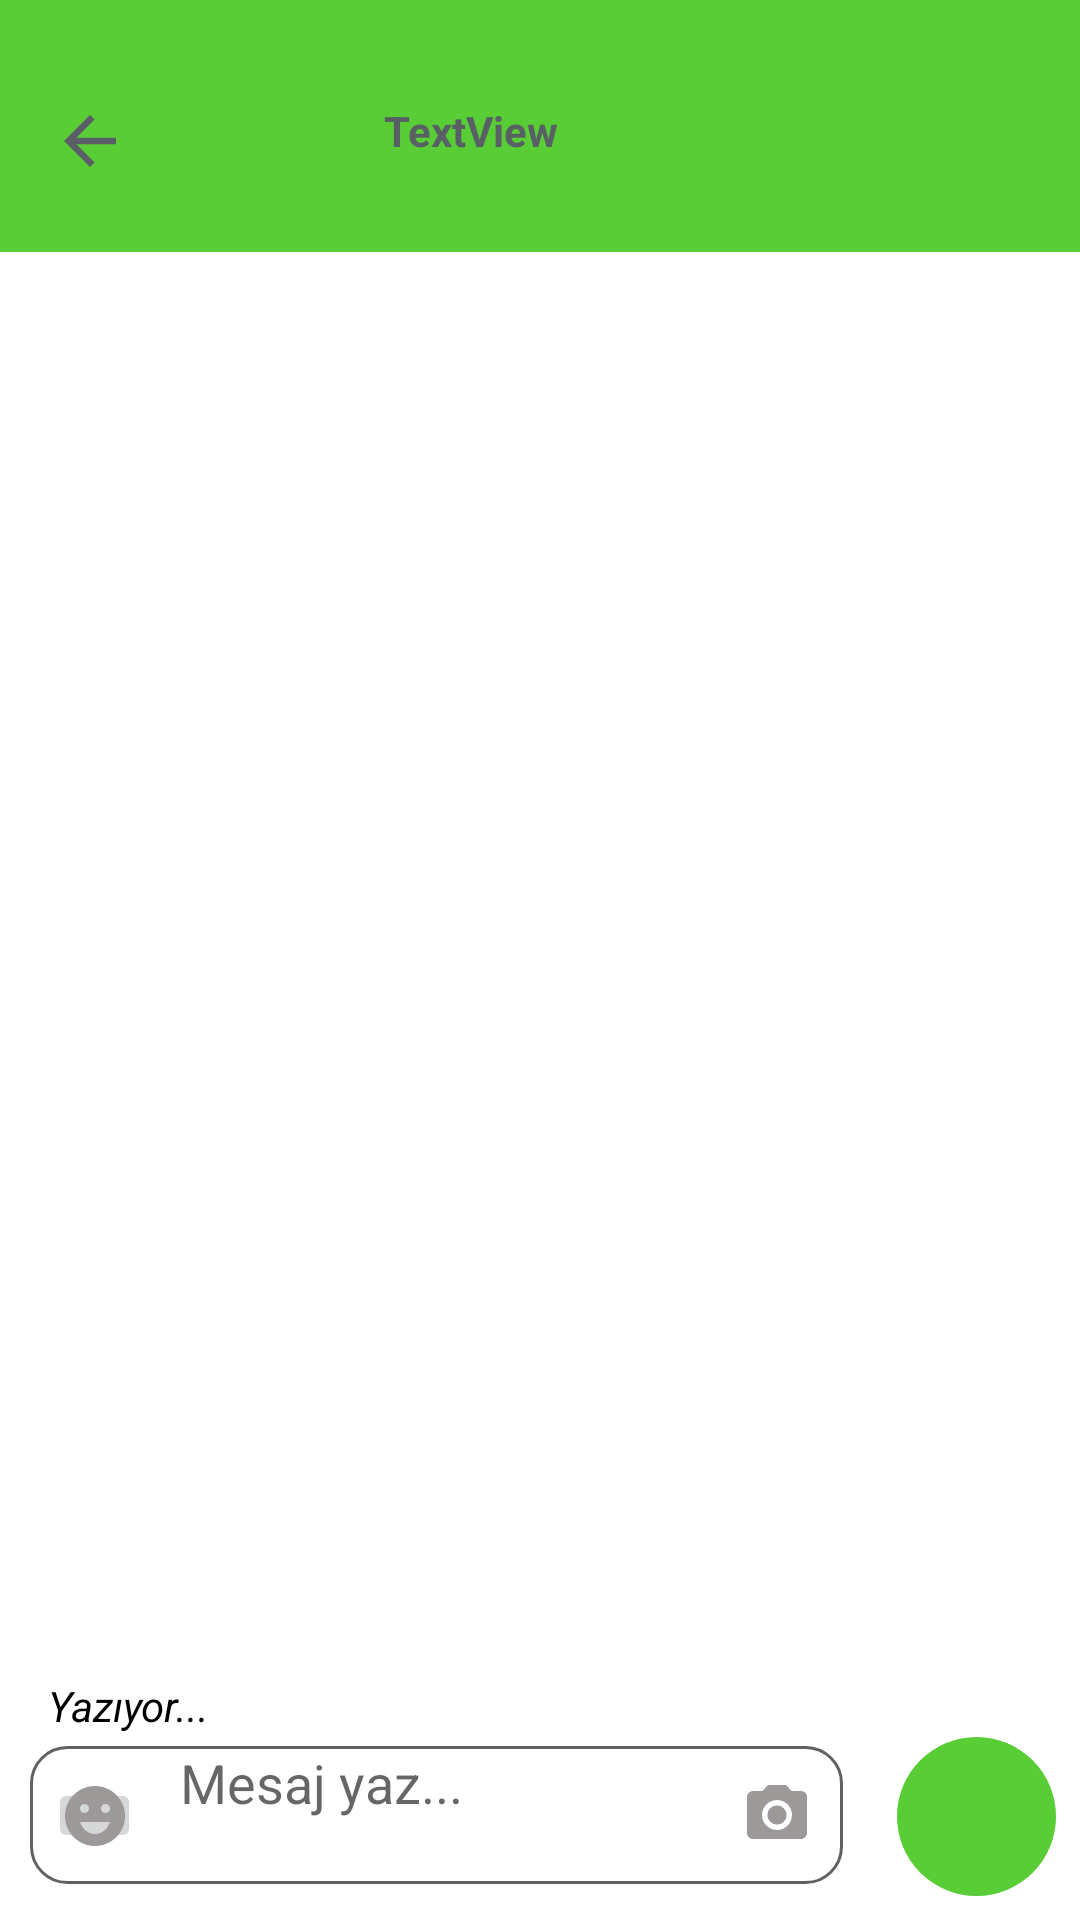

Screen size 1080w x 1920h. Icon name, then its center in pixels as point (x, y):
back: point (90, 141)
camera: point (777, 1812)
emoji: point (94, 1816)
